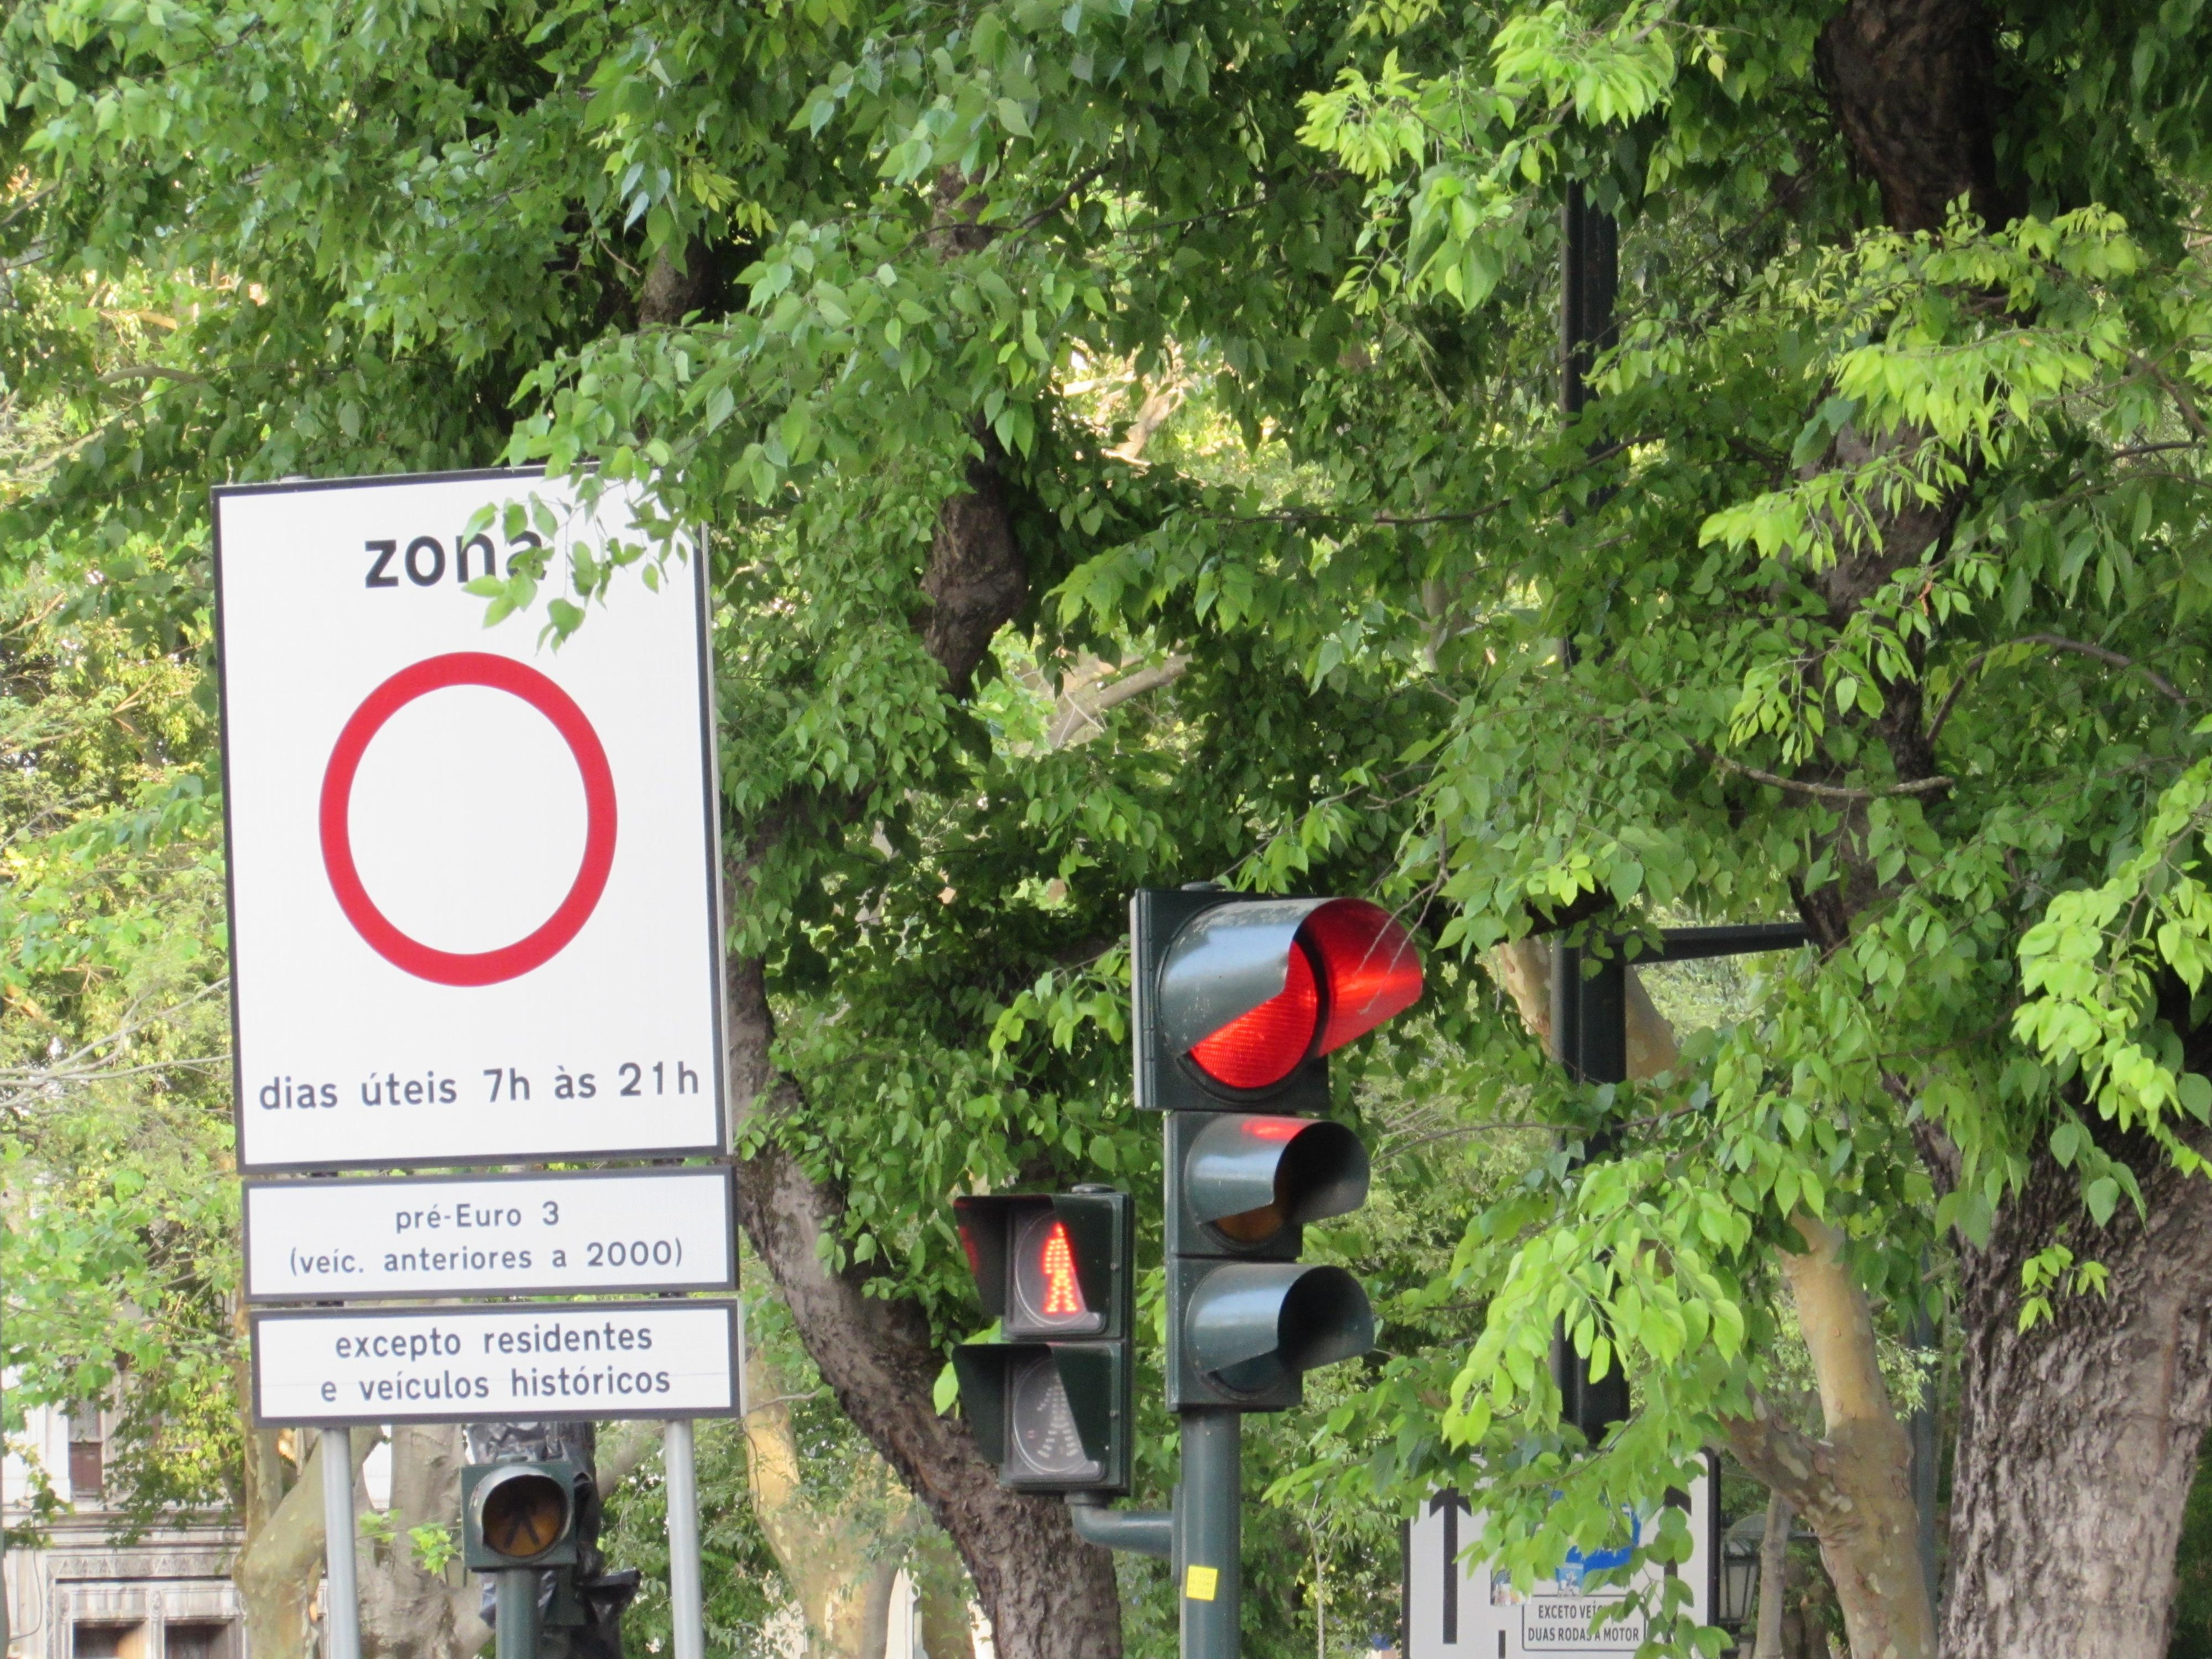red_light: (1130, 889, 1423, 1412)
